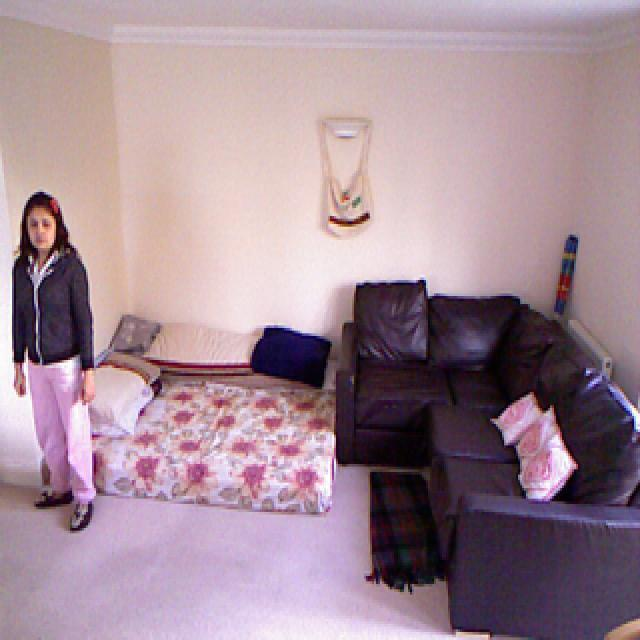walking: (4, 184, 116, 542)
